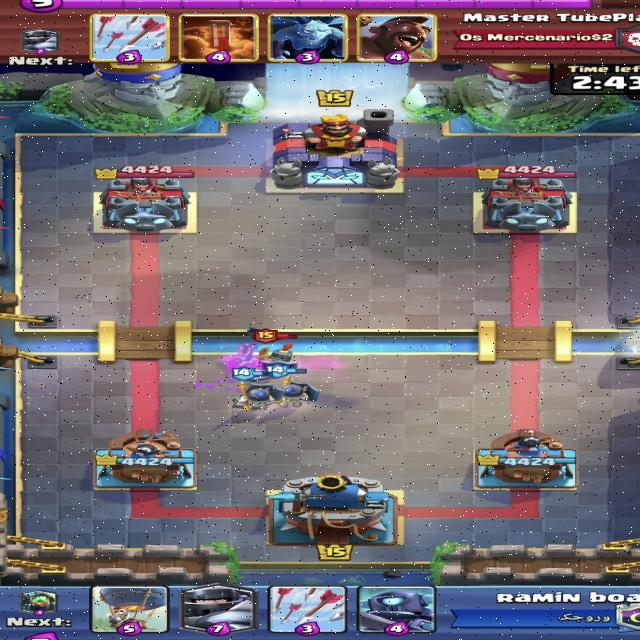Enemy-Guard: (253, 327, 294, 371)
Player-Guard: (265, 363, 321, 408), (230, 366, 278, 411)
